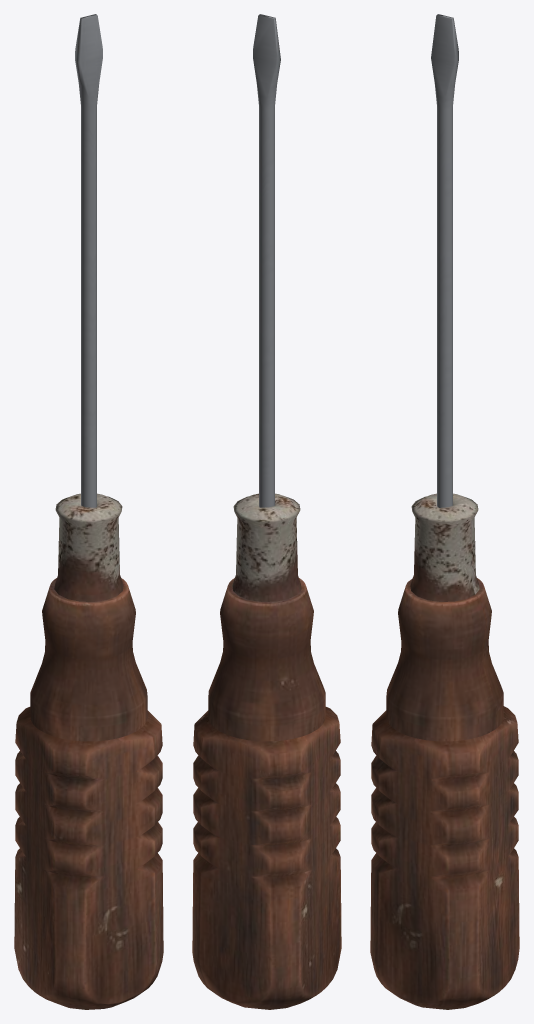
Rendered from screwdriver.glb.
3 renders of one model, left to right at view 1: azimuth 30°, elevation 25°; view 2: azimuth 150°, elevation 25°; view 3: azimuth 330°, elevation 25°, orthographic.
Visible parts, largest first — view 1: flathead_screwdriver; view 2: flathead_screwdriver; view 3: flathead_screwdriver.
Part boxes in pixels (x1,y1,x2,y2): flathead_screwdriver: (14, 14, 163, 1009); flathead_screwdriver: (192, 14, 341, 1009); flathead_screwdriver: (370, 14, 519, 1009).
Size of the model in its own units: 0.03 by 0.2613 by 0.03.
1 material, 1 textured.
